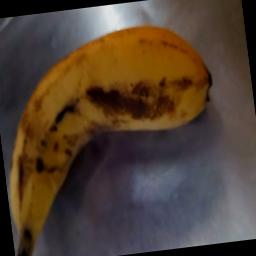Banana Overripe: (0, 7, 256, 256)
